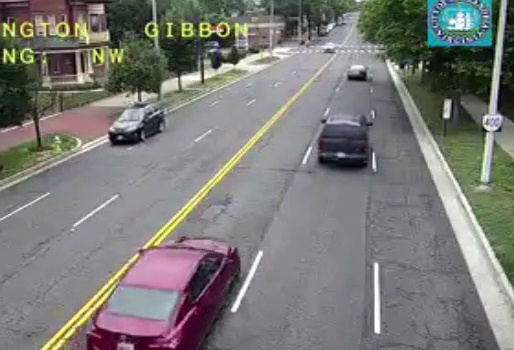car: (86, 237, 238, 350), (319, 116, 368, 163), (347, 64, 367, 81)
